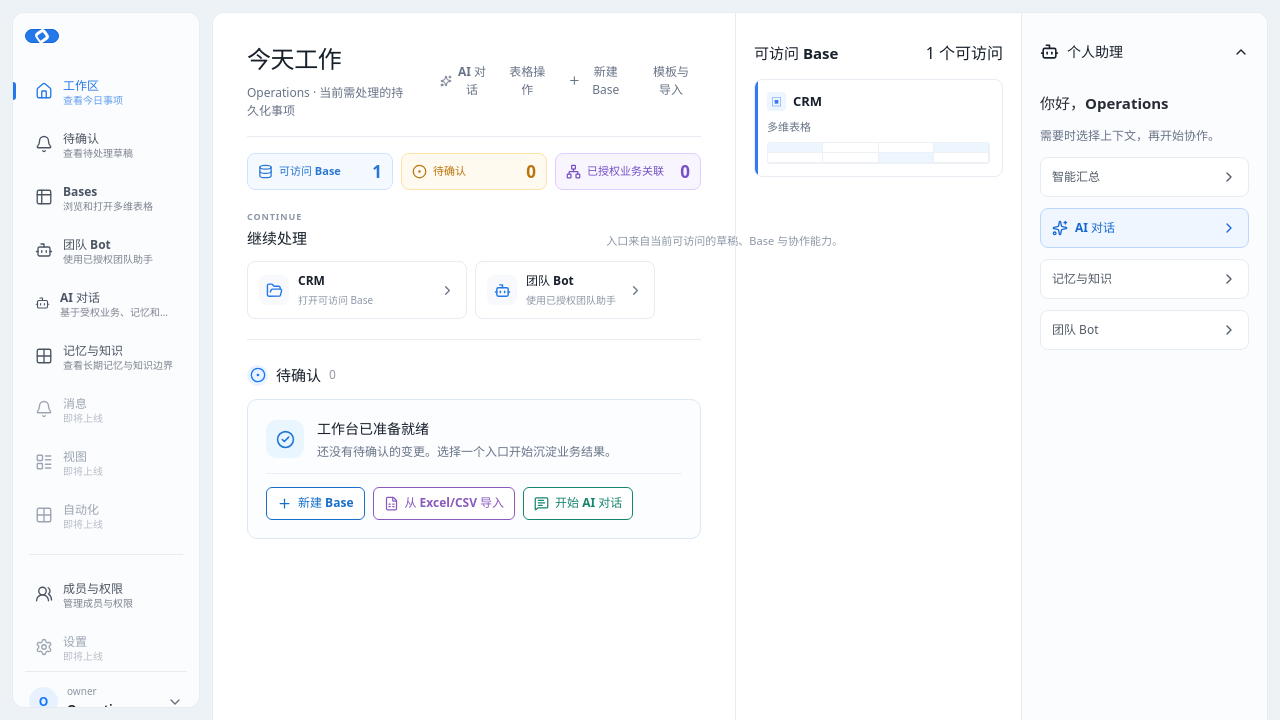
opens App table operations against the selected menu table rather than the current table
Click the link "▣ CRM 多维表格": (878, 128) 754,79 -> 1003,177
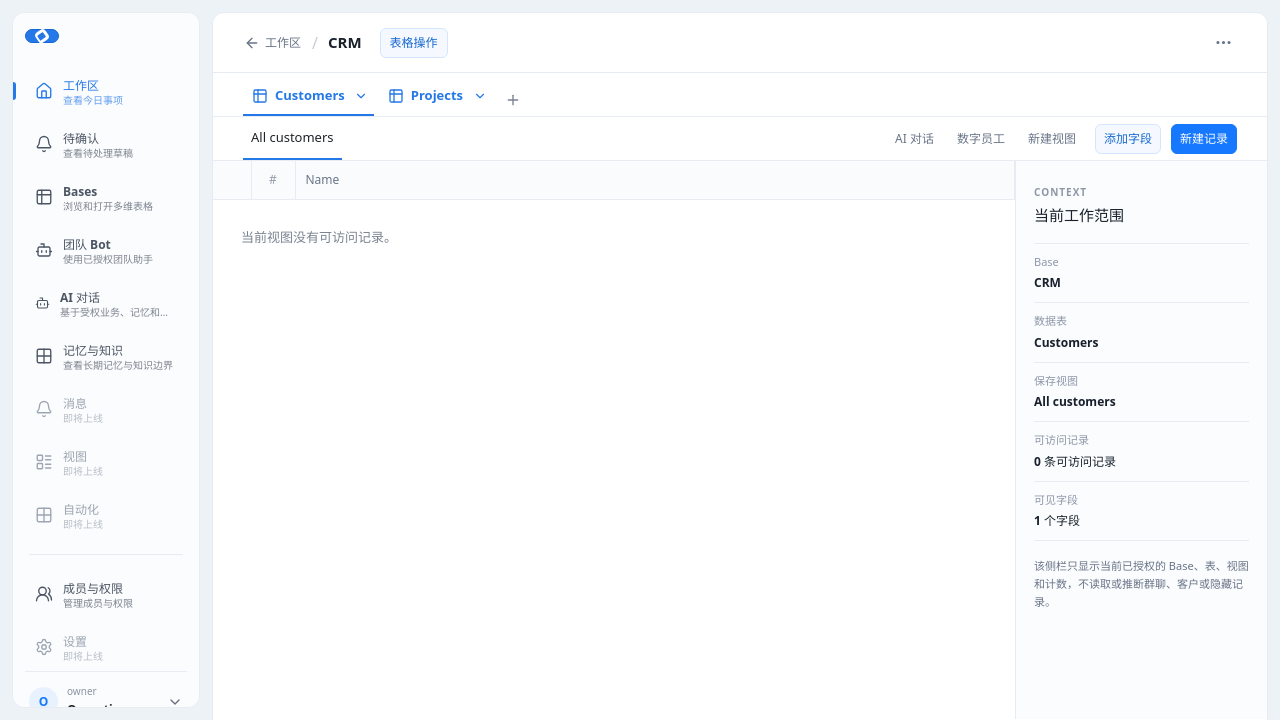
Click the button named "更多 Projects 操作": (480, 96) 467,81 -> 492,111
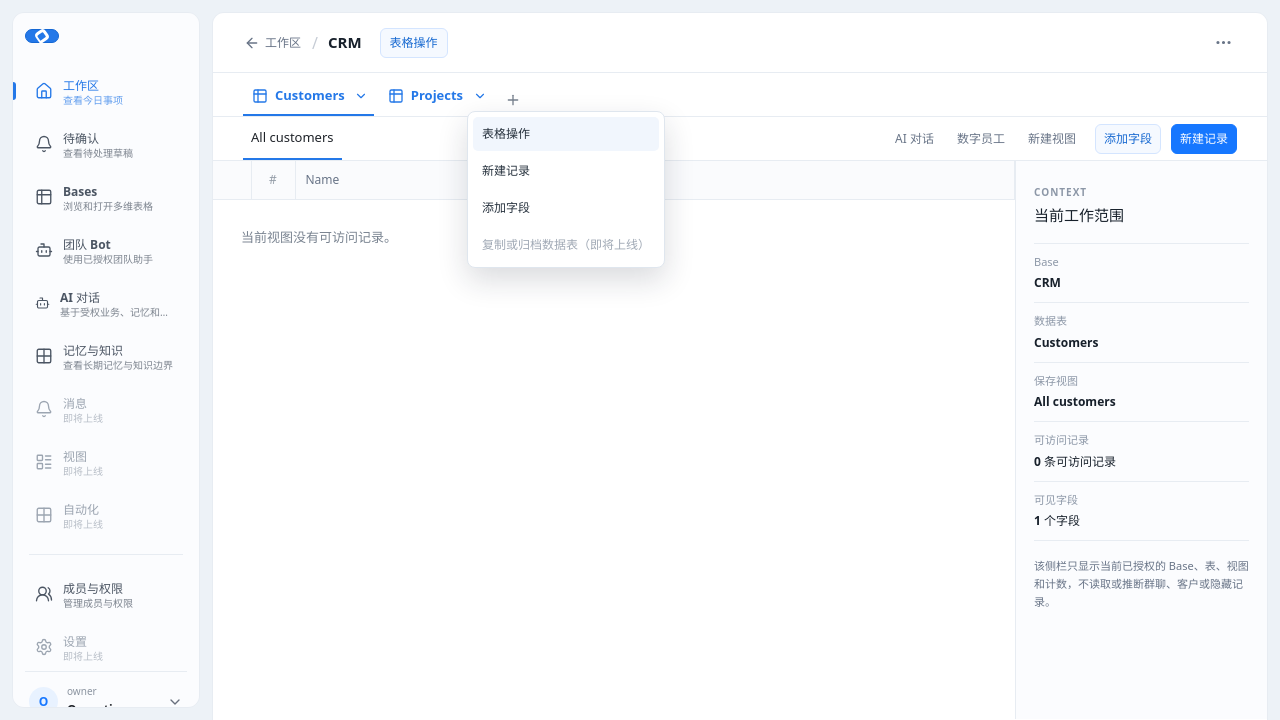
Click the menu item "表格操作": (566, 134) 473,117 -> 659,151
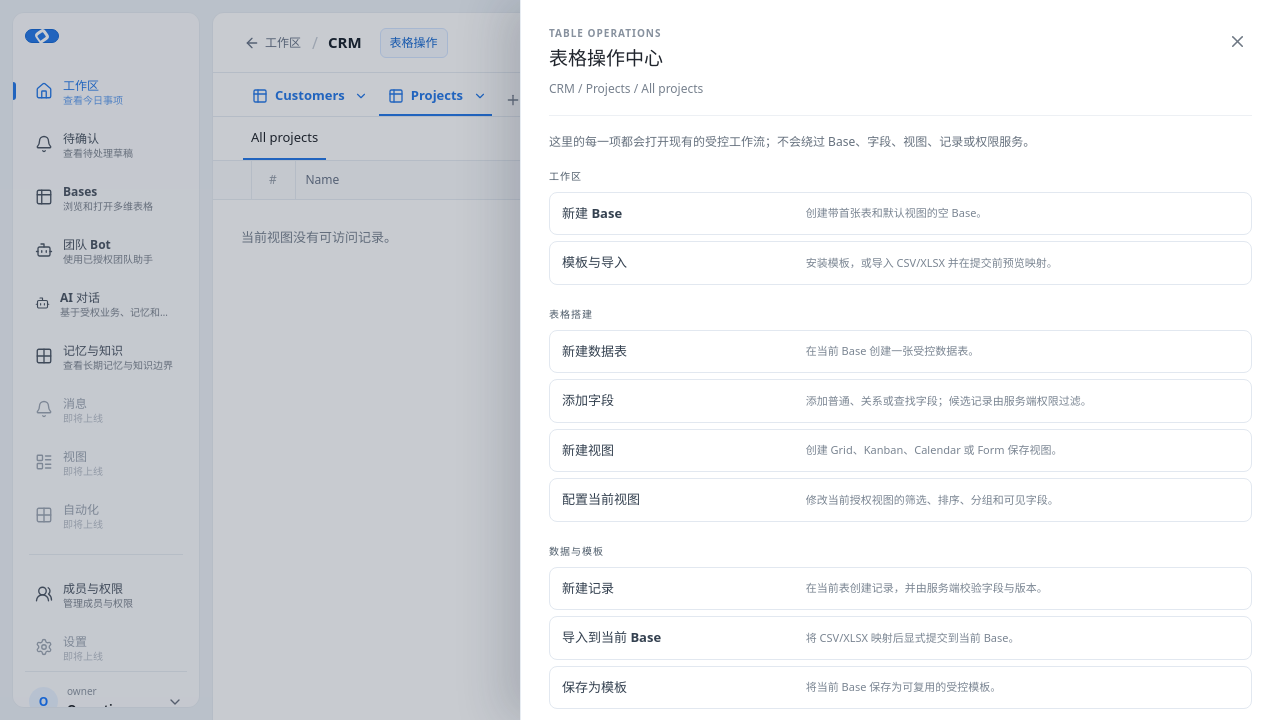
Now the dialog "表格操作中心" shows "CRM / Projects / All projects", box 549,80 -> 703,96
